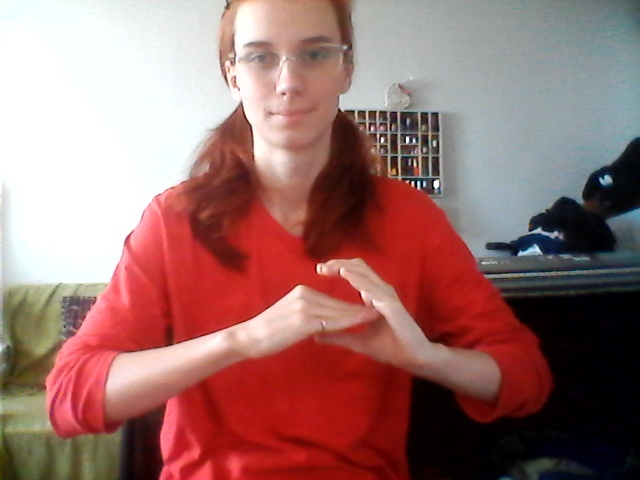e: (263, 253, 435, 379)
